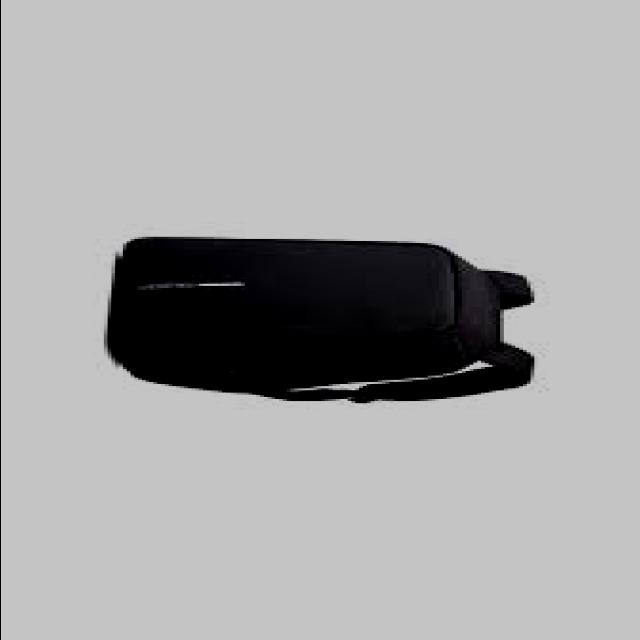backpack: (108, 236, 538, 404)
